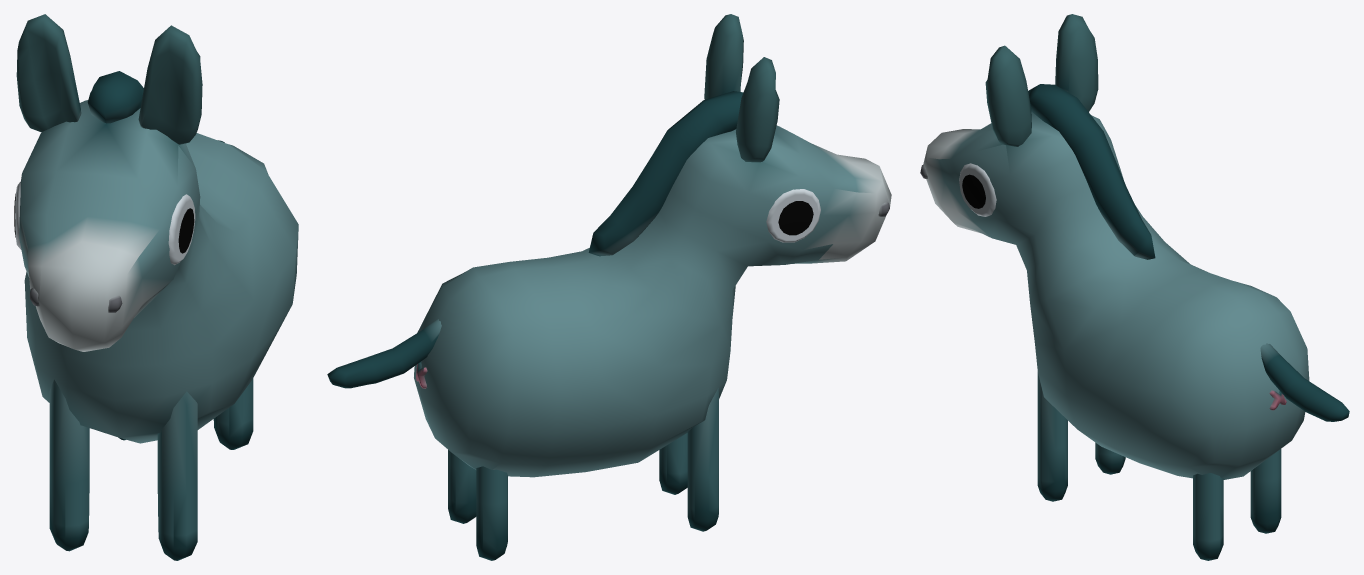
File: Donkey.glb
3 views of the same model, side by side, from view 1: azimuth 30°, elevation 25°; view 2: azimuth 150°, elevation 25°; view 3: azimuth 270°, elevation 25° (orthographic). The views are drawn at different scales.
Visible parts, largest first — view 1: 41; view 2: 41; view 3: 41.
Part boxes in pixels (<box>): 41: <box>14,14,298,560</box>; 41: <box>327,14,891,560</box>; 41: <box>920,14,1349,560</box>.
Bounding box in the file's own units: 0.8953 × 1.11 × 0.9804.
